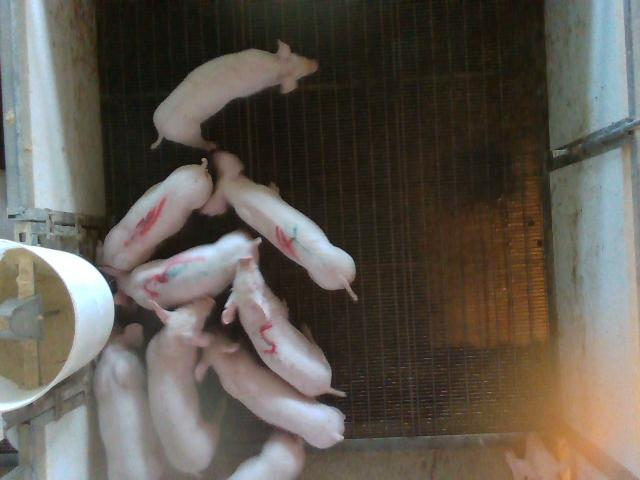pig-1: (98, 159, 212, 271)
pig-3: (100, 231, 261, 309)
pig-4: (200, 151, 358, 301)
pig-5: (221, 258, 345, 396)
